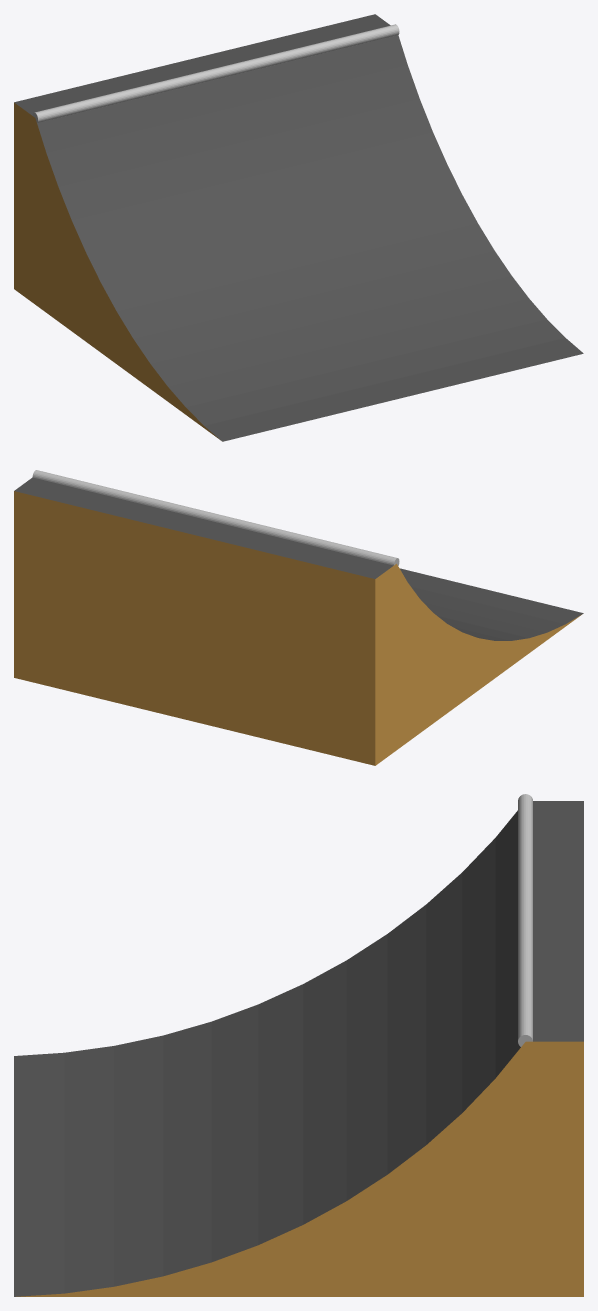
File: Skate_Bowl_Side_Rail_01.FBX
3 renders of one model, top to bottom at view 1: azimuth 30°, elevation 25°; view 2: azimuth 150°, elevation 25°; view 3: azimuth 270°, elevation 25°, orthographic. The views are drawn at different scales.
Visible parts, largest first — view 1: Skate_Bowl_Side_Rail_01; view 2: Skate_Bowl_Side_Rail_01; view 3: Skate_Bowl_Side_Rail_01.
Boxes of the visible parts, x1=… form: Skate_Bowl_Side_Rail_01: x1=14, y1=14, x2=583, y2=441; Skate_Bowl_Side_Rail_01: x1=14, y1=470, x2=583, y2=765; Skate_Bowl_Side_Rail_01: x1=14, y1=794, x2=583, y2=1296.
Size of the model in its own units: 3000 by 1522 by 3000.
